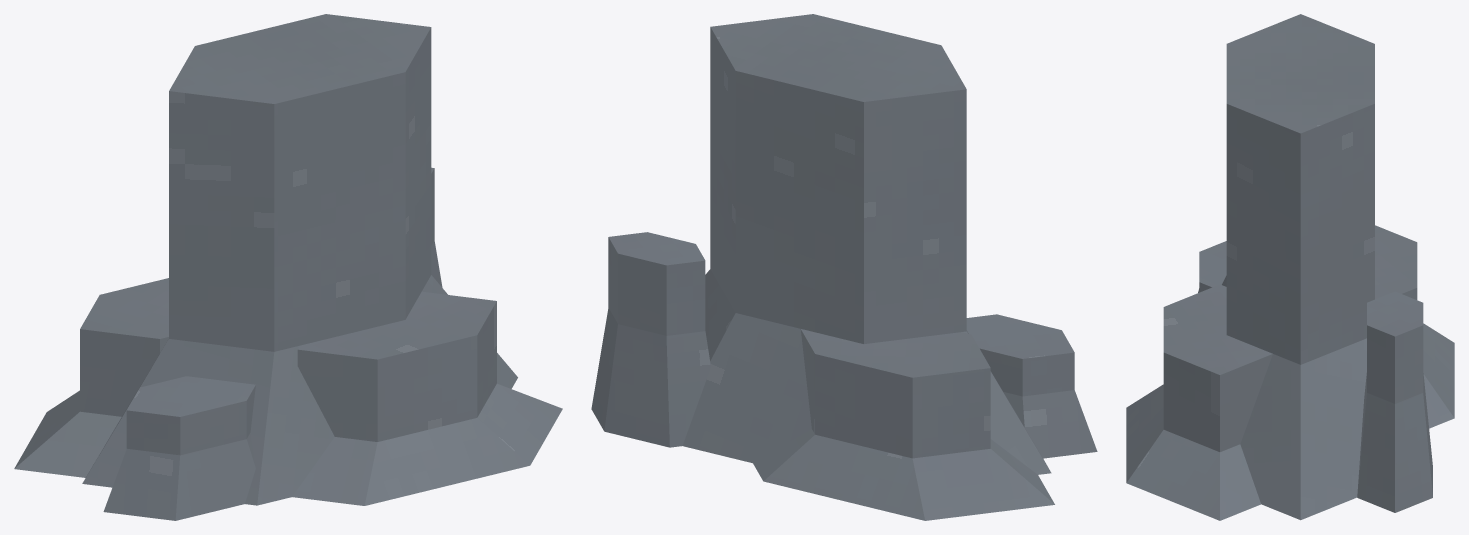
File: item_artifactHusher.glb
The picture shows the model from 3 angles, left to right: view 1: azimuth 30°, elevation 25°; view 2: azimuth 150°, elevation 25°; view 3: azimuth 270°, elevation 25°; orthographic projection. The views are drawn at different scales.
Visible parts, largest first — view 1: Donor_space-rock_0; view 2: Donor_space-rock_0; view 3: Donor_space-rock_0.
Boxes of the visible parts, box(x1,y1,x2,y2) form: Donor_space-rock_0: box(14, 14, 562, 520); Donor_space-rock_0: box(591, 14, 1097, 520); Donor_space-rock_0: box(1126, 14, 1454, 520).
Bounding box in the file's own units: 0.28 × 0.21 × 0.18.
Materials: 1 (1 with a texture image).
